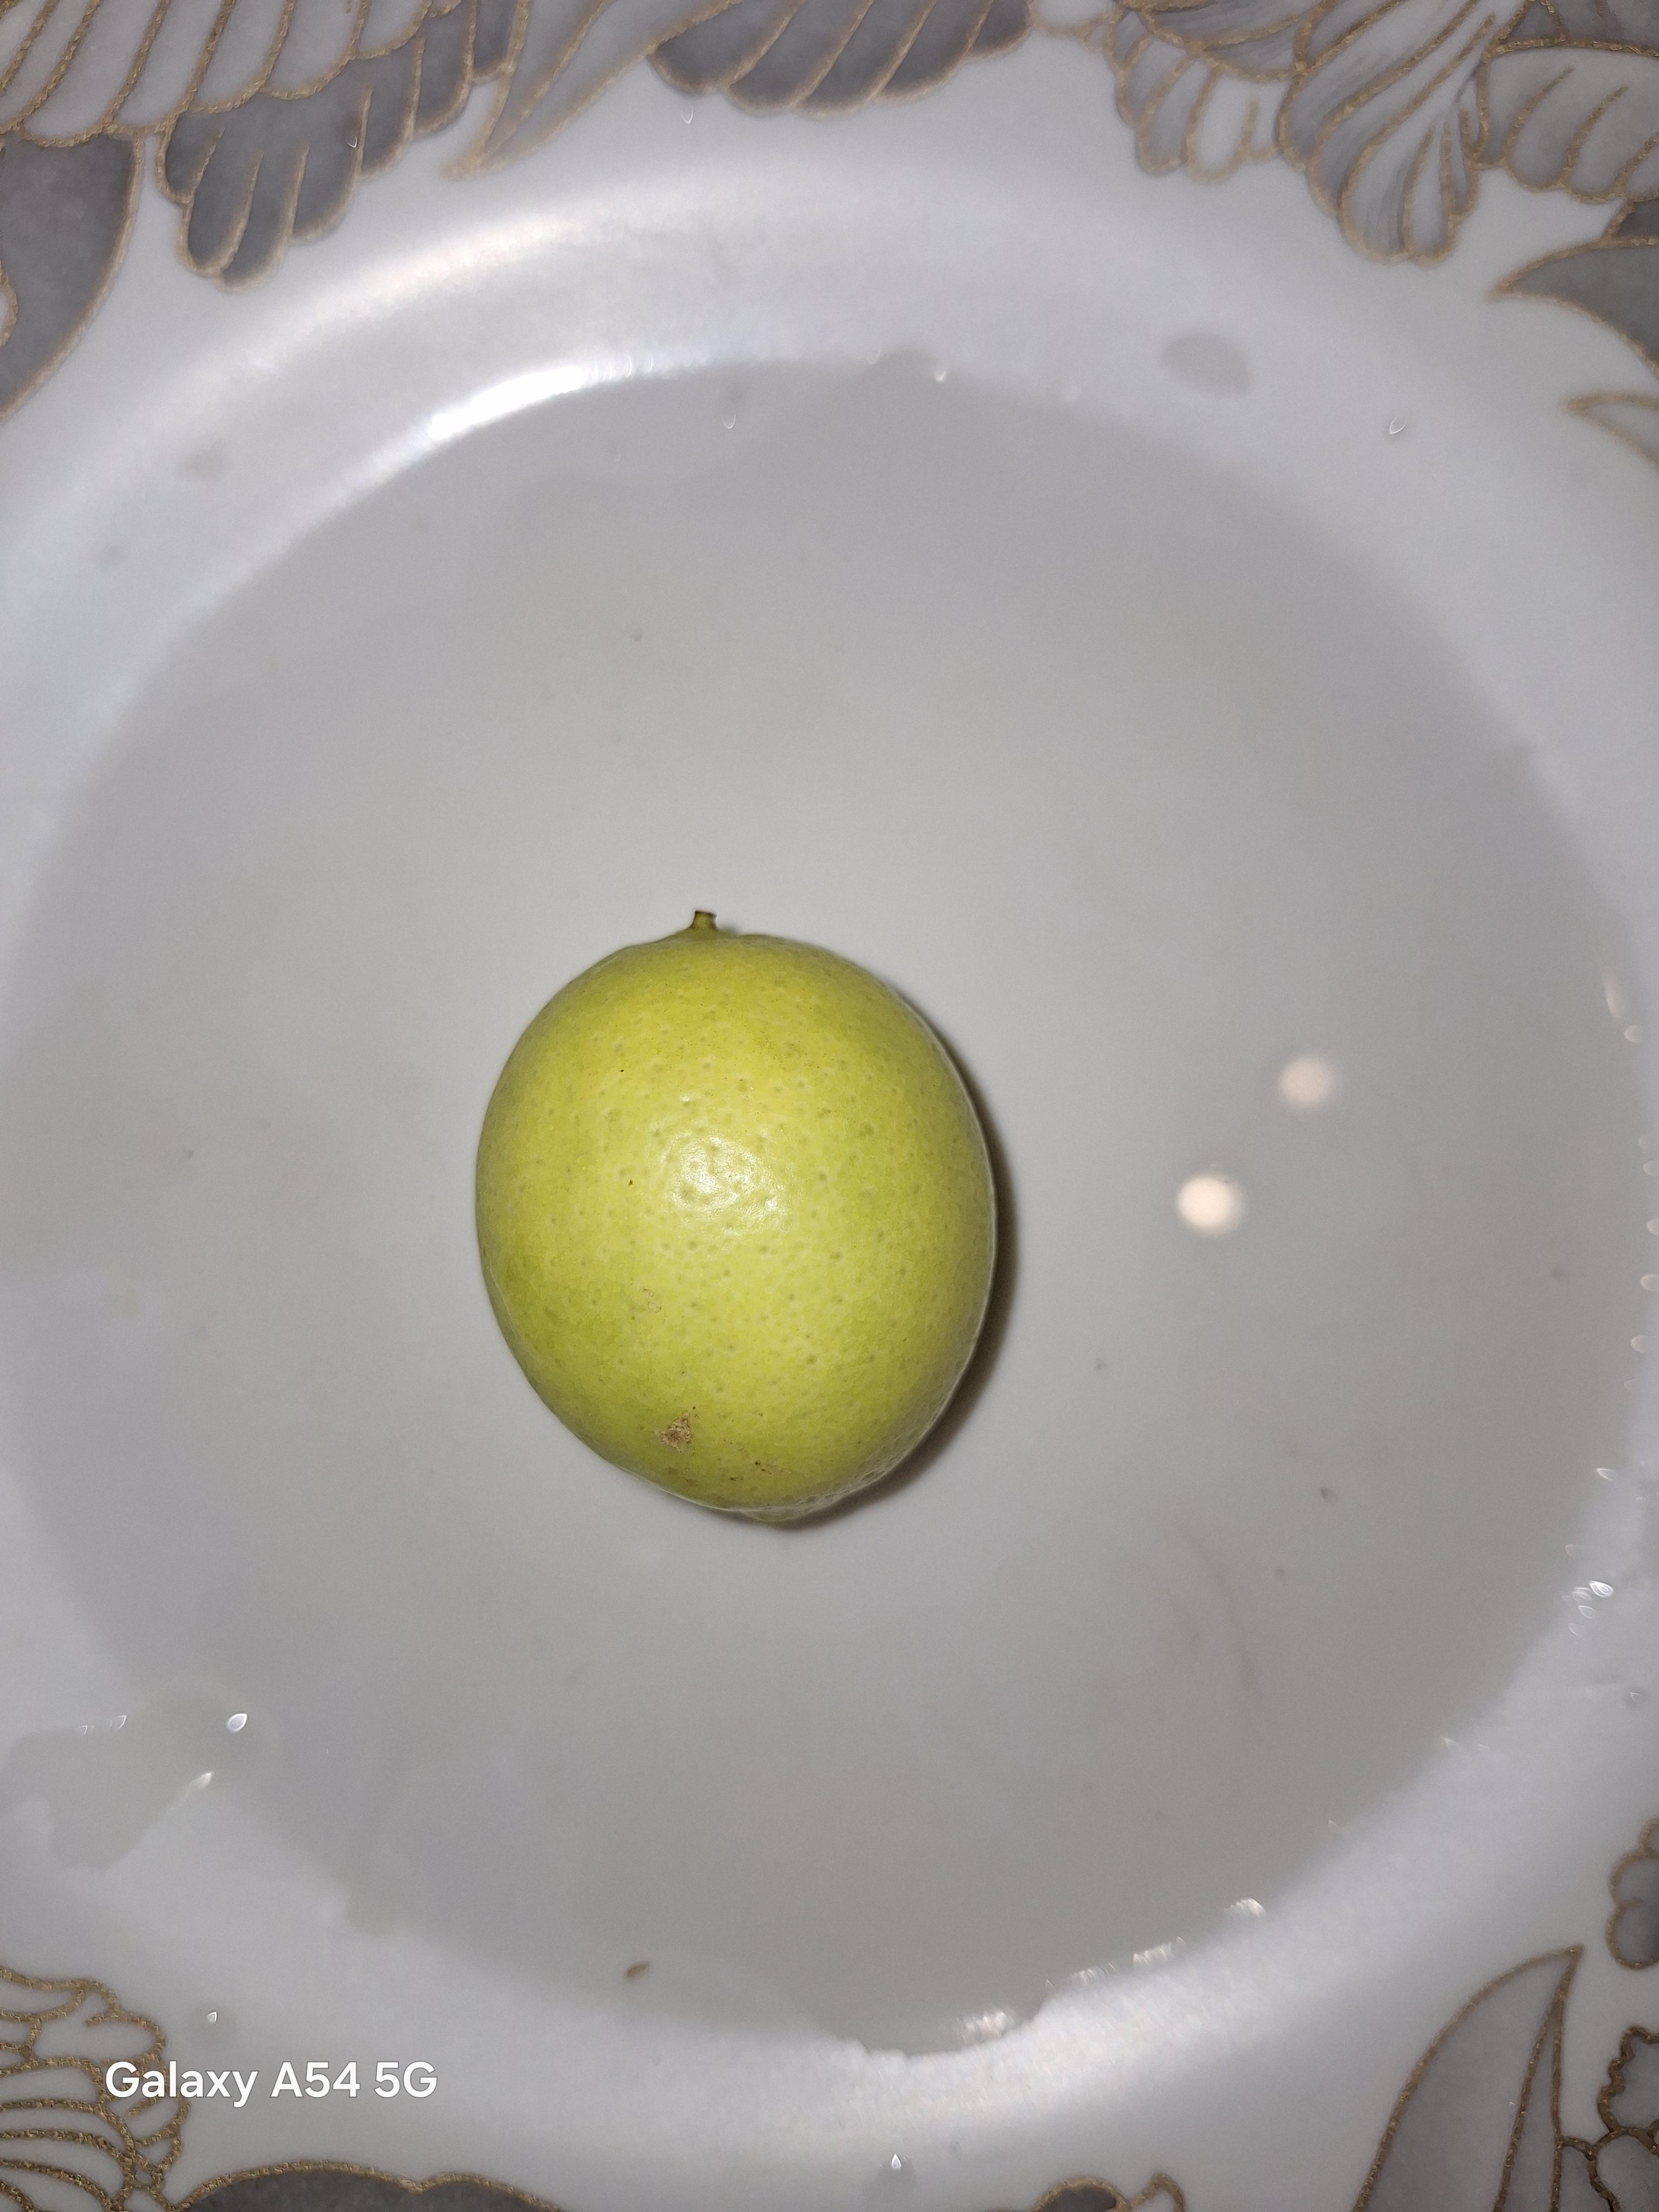non-mango: (460, 907, 1018, 1534)
